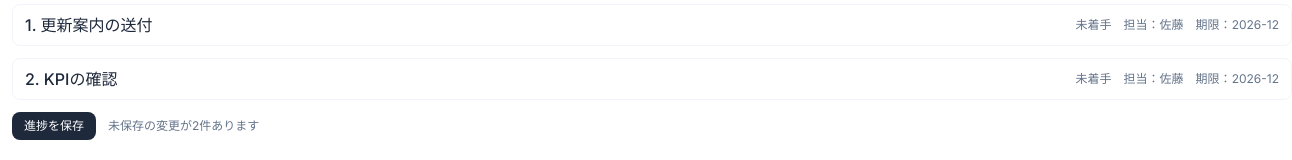
Test case: ActionProgressEditor（実施事項の進捗） › 一部だけ保存できたら、保存できた件と保存できなかった件を分けて示し、失敗した入力を残す
Earlier steps of the test are not shown.
Click the button "進捗を保存": (54, 126) [12,112,96,140]
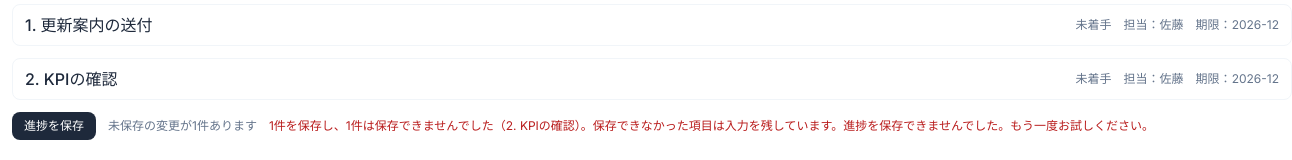
Expected: the message shows "1件を保存し、1件は保存できませんでした（2. KPIの確認）", [269,118,1154,133]
